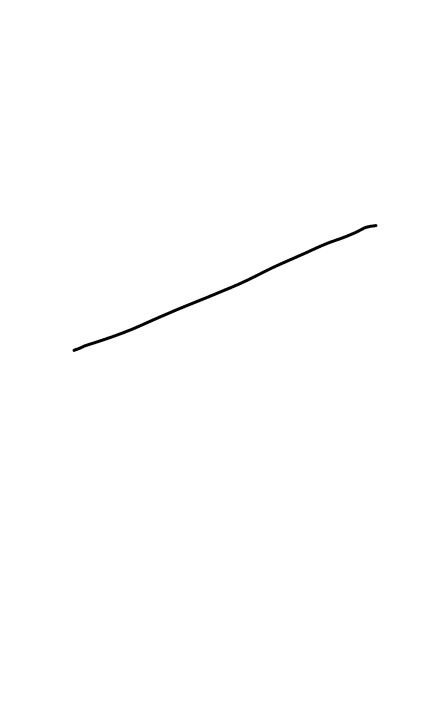Line: (70, 220, 382, 358)
